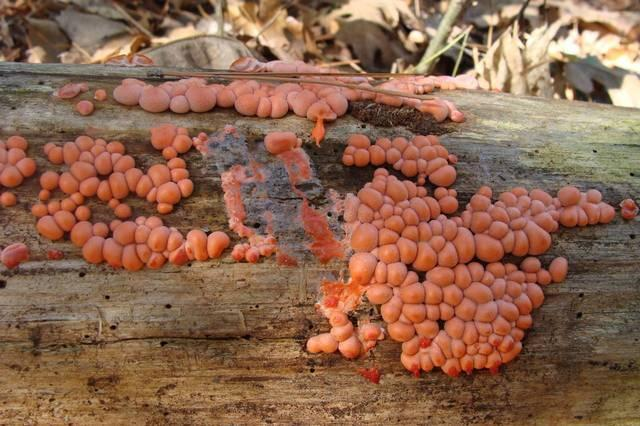Non-edible Mushroom: (1, 47, 636, 379), (306, 132, 623, 378), (263, 130, 298, 155), (0, 241, 30, 269), (617, 197, 639, 220)
